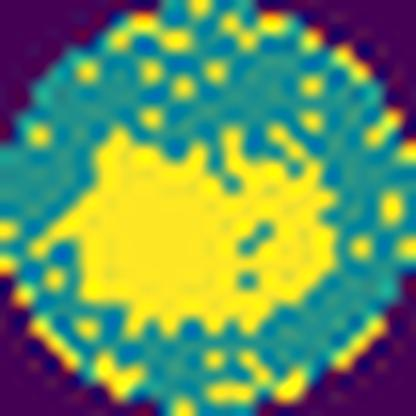Center: (78, 126, 334, 326)
